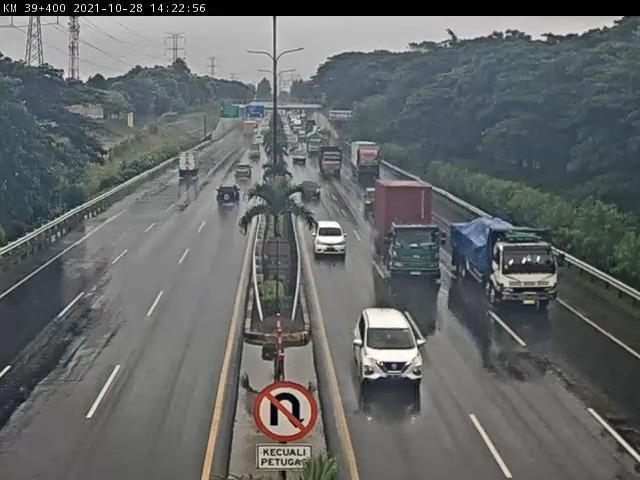truck: (450, 214, 562, 312), (372, 176, 447, 291), (354, 140, 385, 180), (178, 149, 204, 179), (320, 149, 344, 178)
